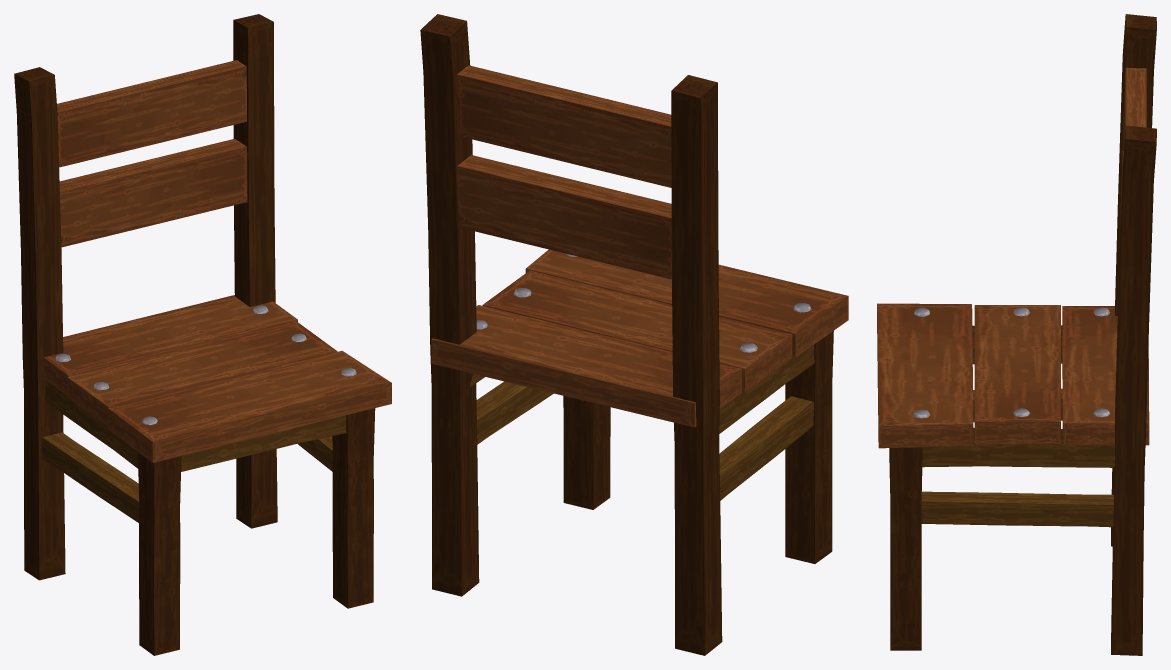
The model's file is Chair_1.glb.
The picture shows the model from 3 angles, left to right: view 1: azimuth 30°, elevation 25°; view 2: azimuth 150°, elevation 25°; view 3: azimuth 270°, elevation 25°; orthographic projection. The views are drawn at different scales.
Parts seen in each view (by area): view 1: Chair_1; view 2: Chair_1; view 3: Chair_1.
Boxes of the visible parts, <box> form: Chair_1: <box>14,14,391,655</box>; Chair_1: <box>420,14,848,655</box>; Chair_1: <box>877,14,1156,655</box>.
Size of the model in its own units: 0.5805 by 1.12 by 0.5489.
Materials: 2 (2 with a texture image).
